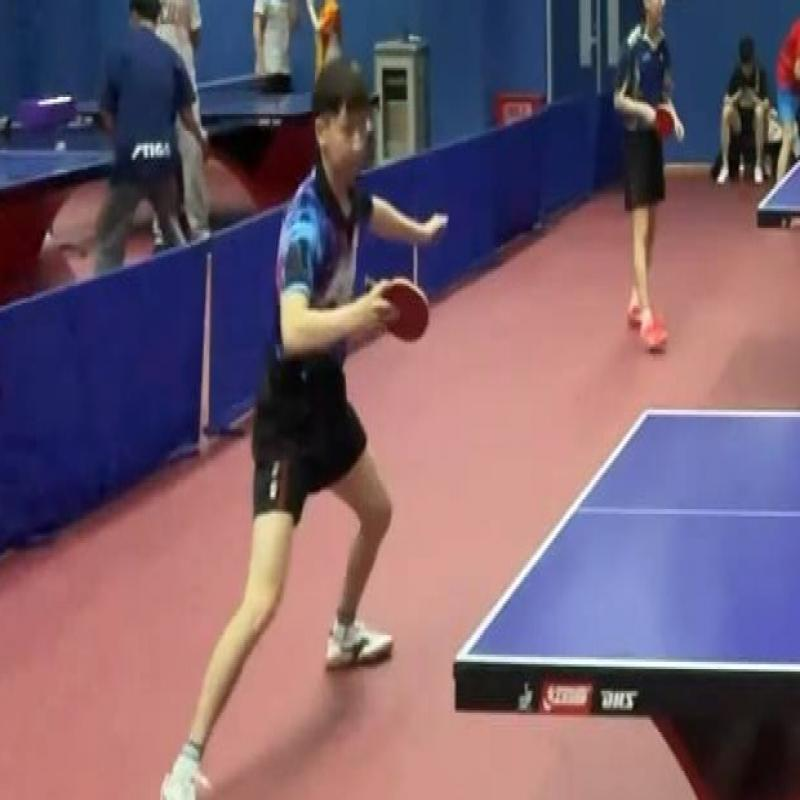bats: (362, 252, 456, 369)
